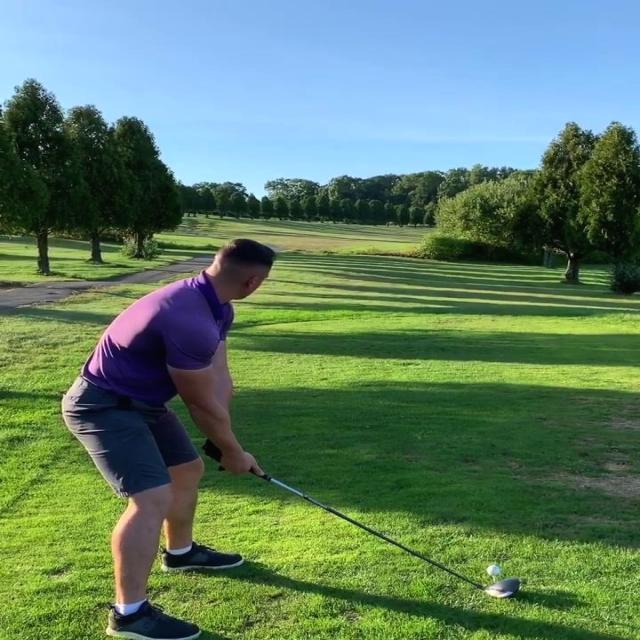golf ball: (487, 565, 500, 574)
golf club-handle: (202, 445, 520, 599)
golf club-head: (486, 579, 520, 598)
